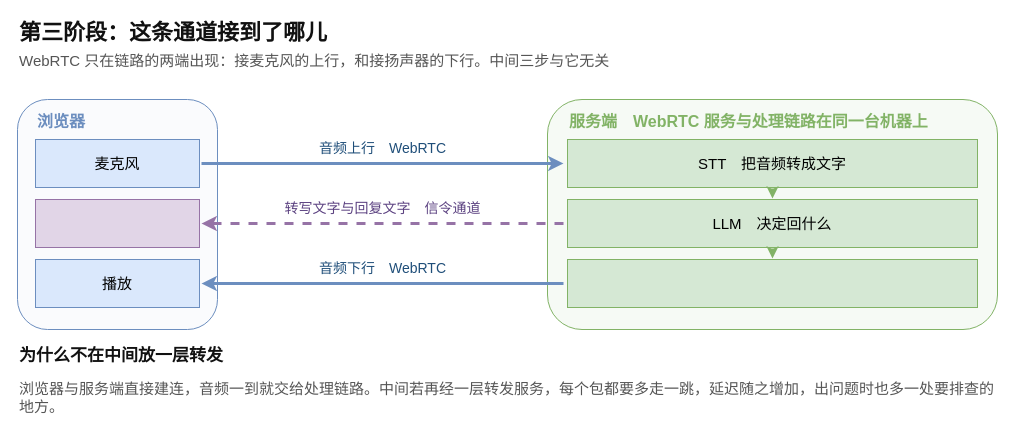
The diagram is 1015 pixels wide and 442 high, and some of its shapes have lost their labels. Here are the shapes that lost their labels. From the top down, the box of each, then its label:
(34, 198, 200, 248): 界面上屏
(566, 258, 978, 308): TTS 把文字合成为音频
